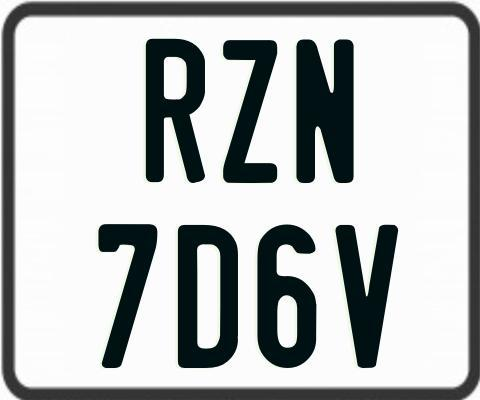6: (256, 224, 321, 373)
7: (96, 223, 161, 368)
D: (175, 223, 236, 369)
N: (294, 39, 354, 186)
R: (146, 38, 208, 186)
V: (335, 224, 398, 368)
Z: (223, 39, 280, 182)
